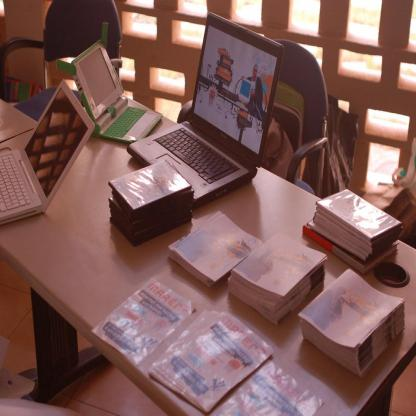board: (128, 12, 282, 200), (0, 80, 94, 225), (56, 22, 162, 144)
